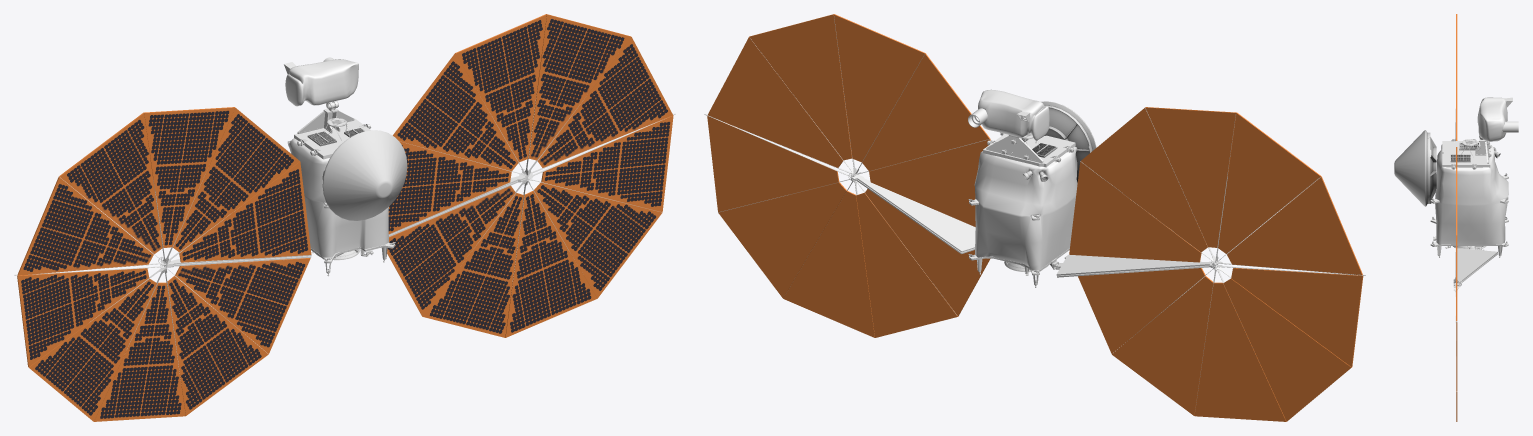
Rendered from lucy.glb.
The picture shows the model from 3 angles, left to right: view 1: azimuth 30°, elevation 25°; view 2: azimuth 150°, elevation 25°; view 3: azimuth 270°, elevation 25°; orthographic projection. The views are drawn at different scales.
Parts seen in each view (by area): view 1: array_left.001, array_left, HGA, BUS, Lucy_Model:pCube20.001, array_left_gears, array_left_gears.001, top_platform; view 2: array_left.001, array_left, BUS, array_left_gears, array_left_gears.001, Lucy_Model:pCube20.001, HGS_base, top_platform; view 3: BUS, HGA, Lucy_Model:pCube20.001, array_left_gears, top_platform, HGS_base, array_left, luvers, array_left.001, platform_bottom, top_instruments, round_plate.
Boxes of the visible parts, left/top/right/bottom form: array_left.001: left=17, top=107, right=311, bottom=421; array_left: left=387, top=14, right=673, bottom=337; HGA: left=323, top=130, right=407, bottom=220; BUS: left=288, top=138, right=388, bottom=257; Lucy_Model:pCube20.001: left=285, top=59, right=358, bottom=106; array_left_gears: left=388, top=95, right=675, bottom=286; array_left_gears.001: left=14, top=174, right=311, bottom=380; top_platform: left=294, top=108, right=370, bottom=159; array_left.001: left=1069, top=107, right=1363, bottom=421; array_left: left=707, top=14, right=990, bottom=337; BUS: left=974, top=146, right=1077, bottom=270; array_left_gears: left=704, top=16, right=989, bottom=314; array_left_gears.001: left=1054, top=108, right=1365, bottom=409; Lucy_Model:pCube20.001: left=978, top=89, right=1049, bottom=140; HGS_base: left=1041, top=101, right=1096, bottom=182; top_platform: left=983, top=134, right=1075, bottom=167; BUS: left=1435, top=144, right=1508, bottom=244; HGA: left=1394, top=130, right=1425, bottom=206; Lucy_Model:pCube20.001: left=1477, top=97, right=1507, bottom=141; array_left_gears: left=1453, top=246, right=1497, bottom=355; top_platform: left=1442, top=139, right=1490, bottom=167; HGS_base: left=1425, top=130, right=1436, bottom=206; array_left: left=1456, top=147, right=1457, bottom=421; luvers: left=1450, top=142, right=1479, bottom=162; array_left.001: left=1456, top=14, right=1457, bottom=140; platform_bottom: left=1430, top=218, right=1508, bottom=248; top_instruments: left=1502, top=97, right=1518, bottom=132; round_plate: left=1459, top=139, right=1478, bottom=157.
Bounding box in the file's own units: 15.6 × 7.07 × 3.21.
Materials: 11 (3 with a texture image).
